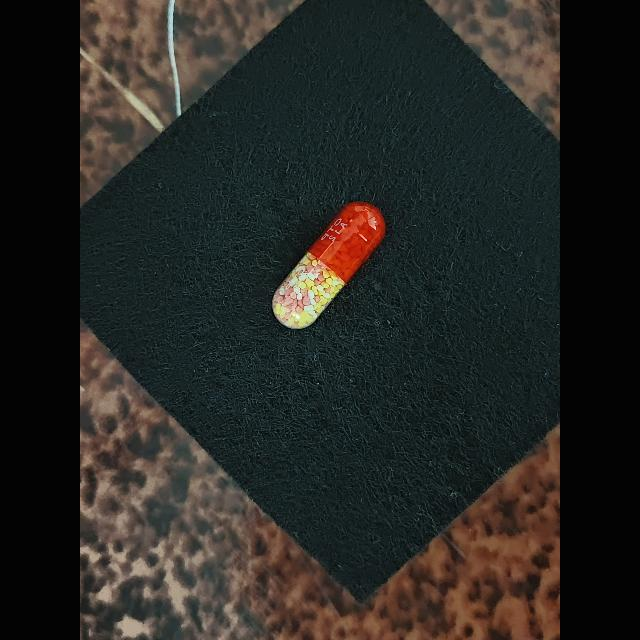Intact Capsule: (272, 201, 386, 329)
